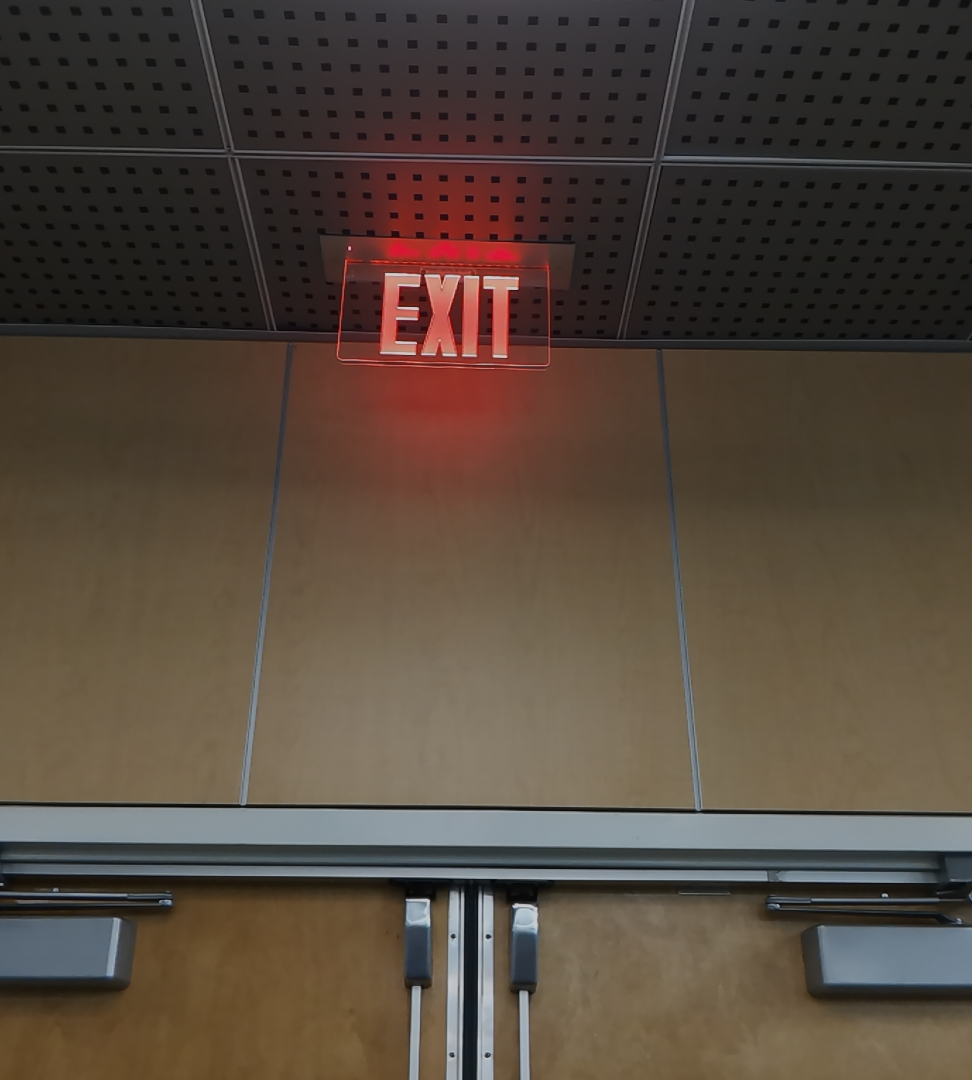emergency_exit: (332, 237, 560, 372)
